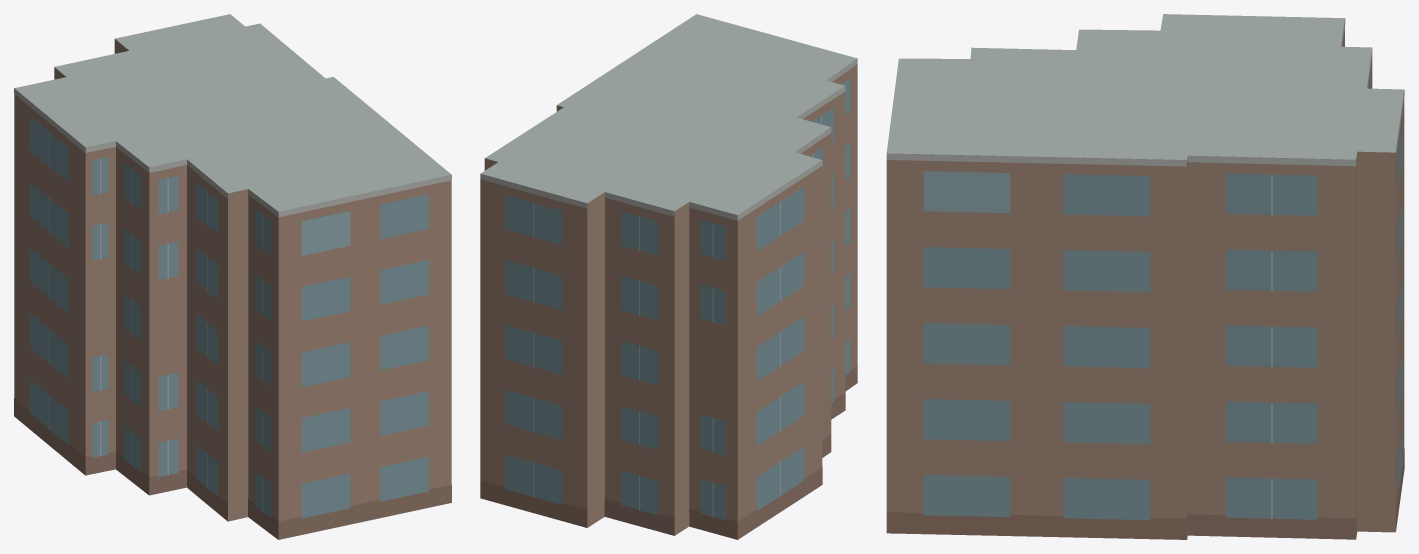
Rendered from survey-upis-32507456.glb.
3 renders of one model, left to right at view 1: azimuth 30°, elevation 25°; view 2: azimuth 150°, elevation 25°; view 3: azimuth 270°, elevation 25°, orthographic. The views are drawn at different scales.
Parts seen in each view (by area): view 1: survey-upis-32507456.tmp; view 2: survey-upis-32507456.tmp; view 3: survey-upis-32507456.tmp.
Boxes of the visible parts, x1,y1,x2,y2 form: survey-upis-32507456.tmp: [14, 14, 451, 539]; survey-upis-32507456.tmp: [480, 14, 857, 539]; survey-upis-32507456.tmp: [886, 14, 1404, 539].
Size of the model in its own units: 11.71 by 14.2 by 17.55.
